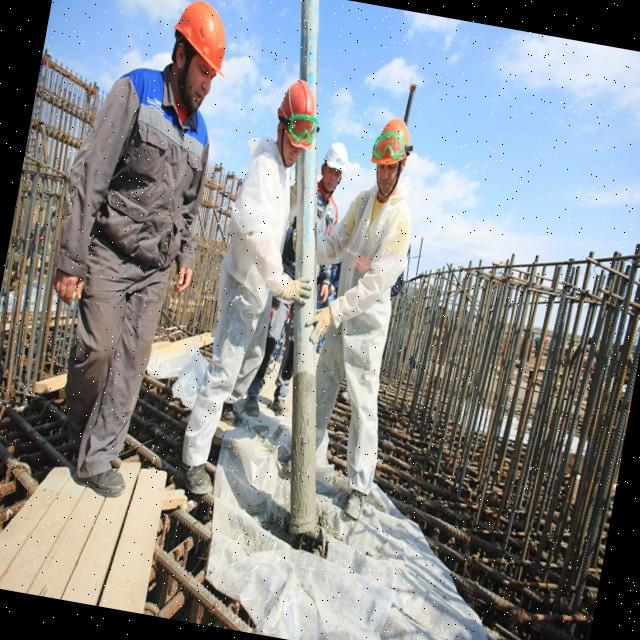Helmet: (166, 1, 235, 81), (271, 78, 325, 155), (368, 115, 419, 178), (321, 139, 350, 178)
NoJacket: (103, 84, 210, 270), (333, 188, 405, 333), (230, 153, 305, 292), (312, 195, 339, 239)
